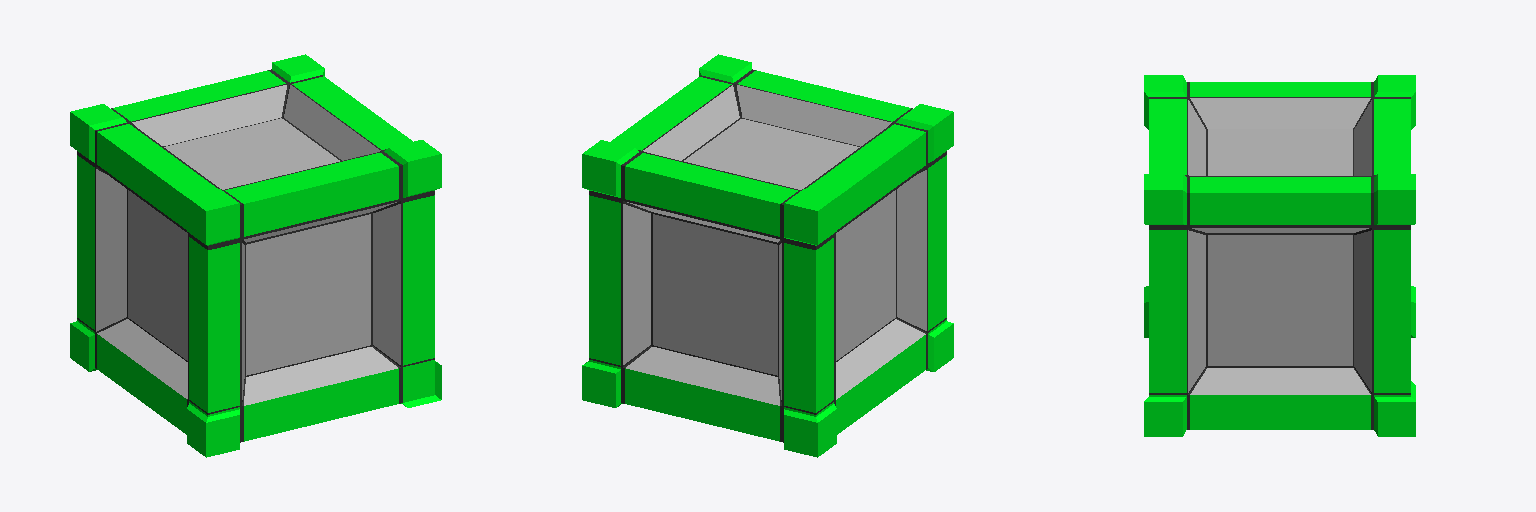
Rendered from Crate.obj.
3 renders of one model, left to right at view 1: azimuth 30°, elevation 25°; view 2: azimuth 150°, elevation 25°; view 3: azimuth 270°, elevation 25°, orthographic.
Visible parts, largest first — view 1: polySurface23, polySurface24, polySurface1; view 2: polySurface23, polySurface24, polySurface1; view 3: polySurface23, polySurface24, polySurface1.
Part boxes in pixels (x1,y1,x2,y2): polySurface23: (70,54,441,457); polySurface24: (96,85,400,405); polySurface1: (77,69,434,442); polySurface23: (582,54,953,457); polySurface24: (623,85,926,405); polySurface1: (589,69,946,442); polySurface23: (1144,75,1415,436); polySurface24: (1188,98,1371,394); polySurface1: (1149,82,1410,429).
Size of the model in its own units: 4.95 by 4.95 by 4.95.